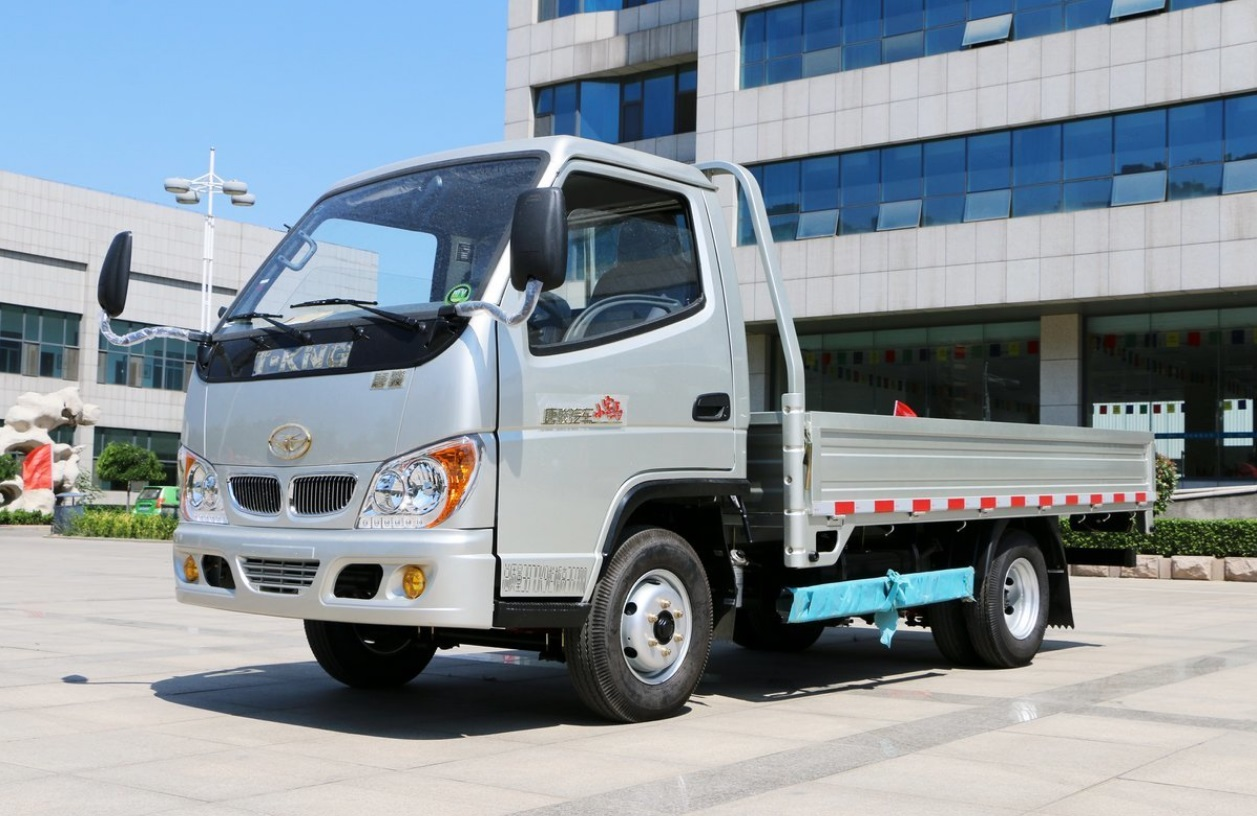truck: (96, 132, 1152, 722)
